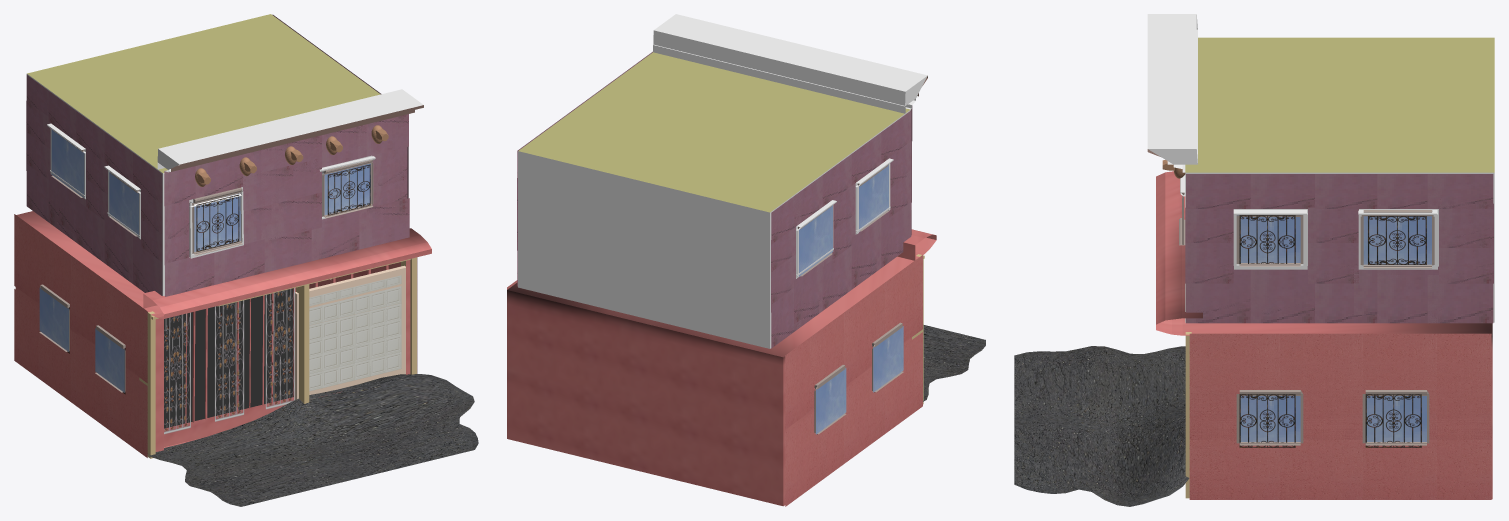
The picture shows the model from 3 angles, left to right: view 1: azimuth 30°, elevation 25°; view 2: azimuth 150°, elevation 25°; view 3: azimuth 270°, elevation 25°; orthographic projection. The views are drawn at different scales.
Parts seen in each view (by area): view 1: Cube_3, Cube.004_30, Plane.006_29, Screenshot 2026-09-02 142356.023_16, Screenshot 2026-09-02 142356.015_18, Cube.001_4, garage_door_panel_texture.005_21, Cube.002_5, Plane.007_31, Plane.001_7, Cube.003_22, Plane_6 (+9 smaller); view 2: Cube_3, Cube.002_5, Cube.004_30, Screenshot 2026-09-02 142356.015_18, Plane.006_29, Plane.005_12, Plane.004_11; view 3: Cube_3, Cube.004_30, Screenshot 2026-09-02 142356.001_19, Plane.006_29, Cube.002_5, Plane.003_10, Plane.002_9, window_grille_cutout.003_26, window_grille_cutout.002_25, Plane.007_31.
Part boxes in pixels (left/top/right/bottom): Cube_3: left=14, top=211, right=431, bottom=457; Cube.004_30: left=27, top=14, right=380, bottom=173; Plane.006_29: left=147, top=374, right=478, bottom=506; Screenshot 2026-09-02 142356.023_16: left=164, top=114, right=409, bottom=296; Screenshot 2026-09-02 142356.015_18: left=26, top=75, right=162, bottom=295; Cube.001_4: left=164, top=288, right=293, bottom=428; garage_door_panel_texture.005_21: left=309, top=275, right=401, bottom=391; Cube.002_5: left=26, top=74, right=423, bottom=295; Plane.007_31: left=139, top=257, right=416, bottom=458; Plane.001_7: left=192, top=187, right=242, bottom=255; Cube.003_22: left=295, top=265, right=405, bottom=399; Plane_6: left=322, top=159, right=373, bottom=218; Cube_3: left=507, top=229, right=936, bottom=506; Cube.002_5: left=518, top=14, right=927, bottom=348; Cube.004_30: left=518, top=52, right=910, bottom=212; Screenshot 2026-09-02 142356.015_18: left=771, top=110, right=911, bottom=348; Plane.006_29: left=923, top=325, right=985, bottom=401; Plane.005_12: left=798, top=205, right=832, bottom=276; Plane.004_11: left=857, top=165, right=888, bottom=231; Cube_3: left=1156, top=171, right=1492, bottom=499; Cube.004_30: left=1185, top=37, right=1494, bottom=172; Screenshot 2026-09-02 142356.001_19: left=1185, top=174, right=1493, bottom=323; Plane.006_29: left=1014, top=346, right=1189, bottom=506; Cube.002_5: left=1147, top=14, right=1494, bottom=322; Plane.003_10: left=1360, top=210, right=1434, bottom=268; Plane.002_9: left=1236, top=215, right=1303, bottom=266; window_grille_cutout.003_26: left=1239, top=215, right=1295, bottom=263; window_grille_cutout.002_25: left=1368, top=216, right=1426, bottom=264; Plane.007_31: left=1185, top=332, right=1191, bottom=498.
Bounding box in the file's own units: 4.39 × 4.21 × 5.32.
16 materials, 8 textured.
